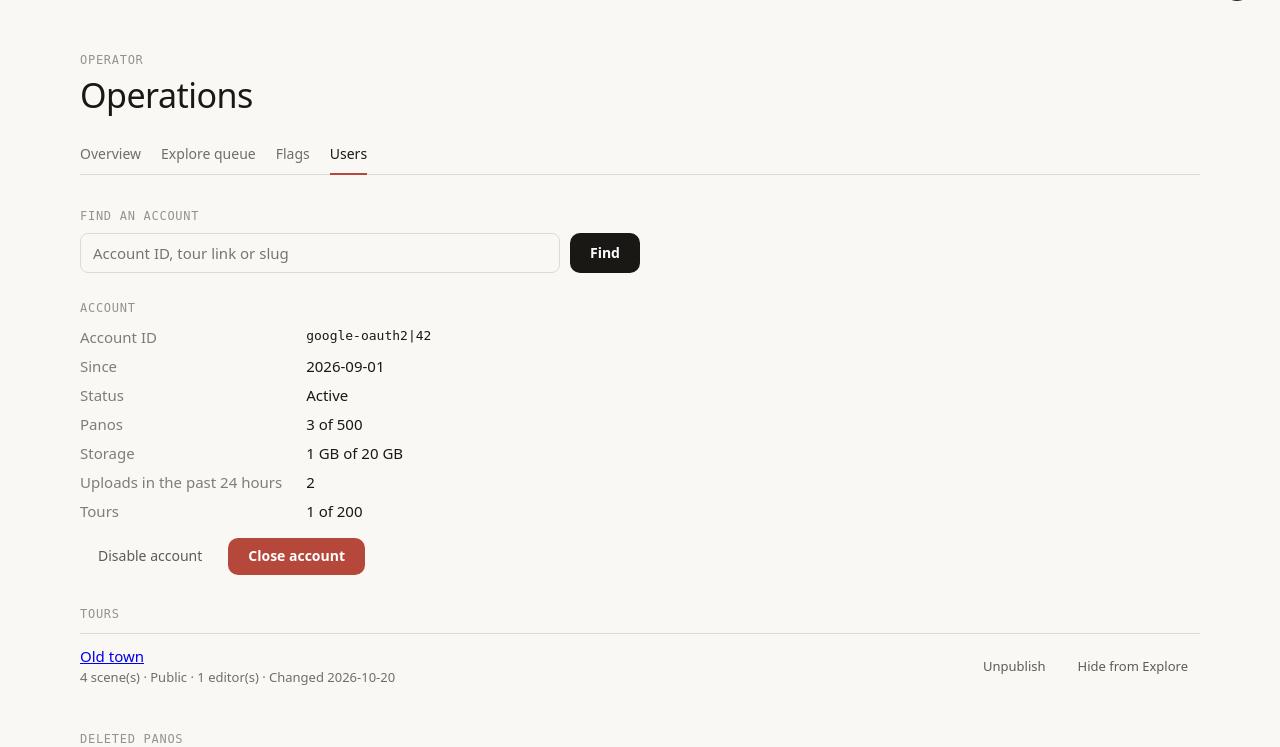
Test case: /app/ops/users › unpublishes after a confirm, hides at once, and restores from the trash
Click the button "Unpublish": (1014,667) [971,652,1058,682]
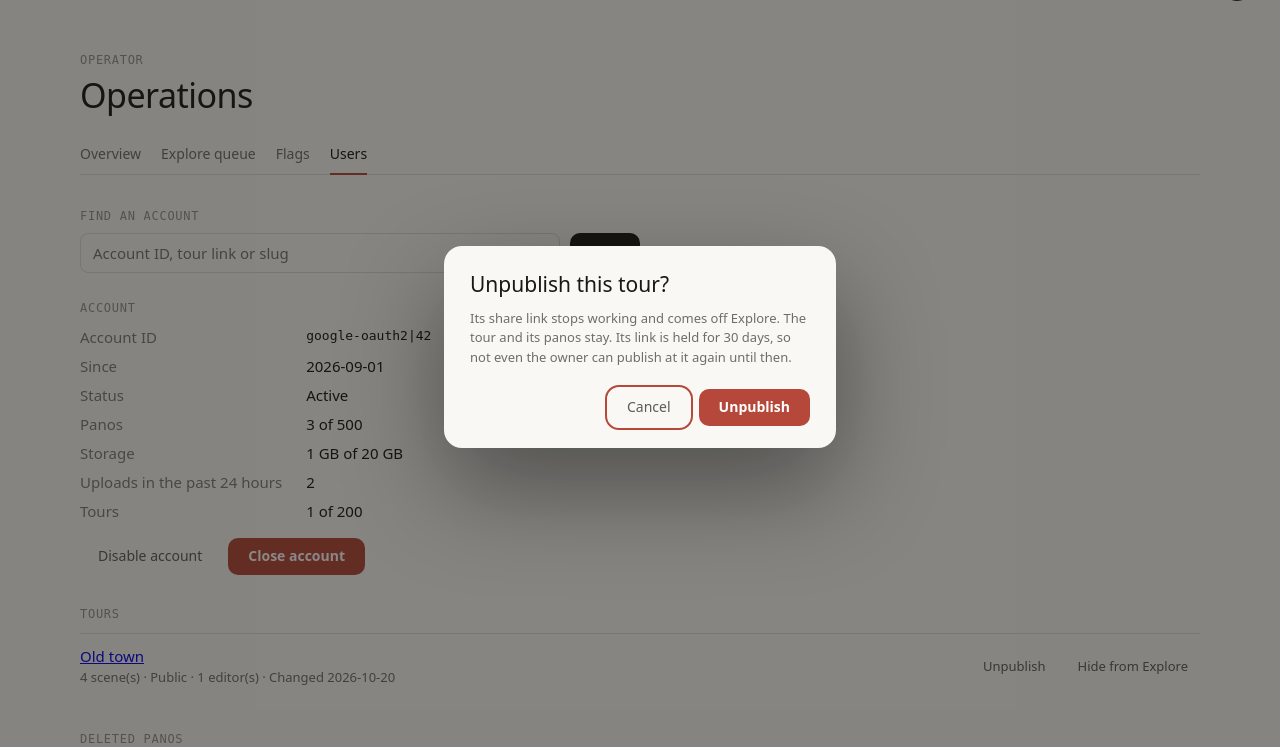
Click the button "Unpublish": (754,408) [699,389,810,426]
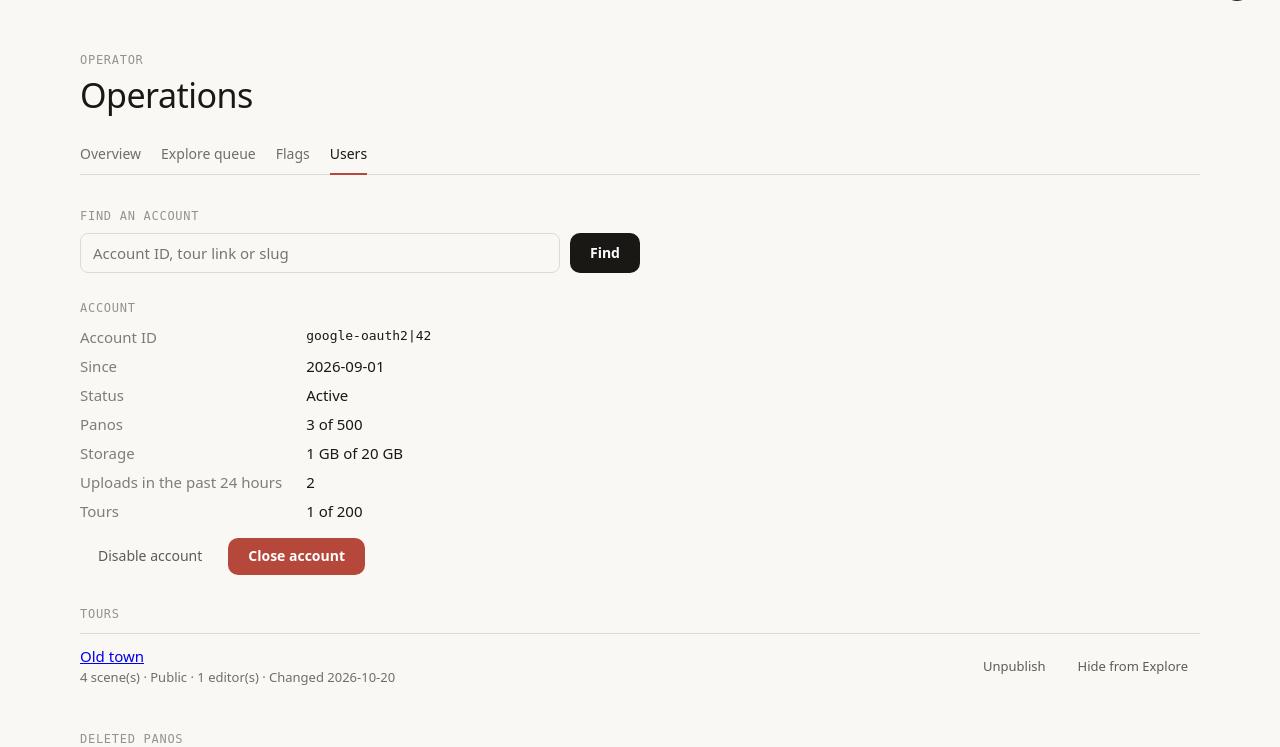
Click the button "Hide from Explore": (1133,667) [1066,652,1200,682]
(page scrolled)
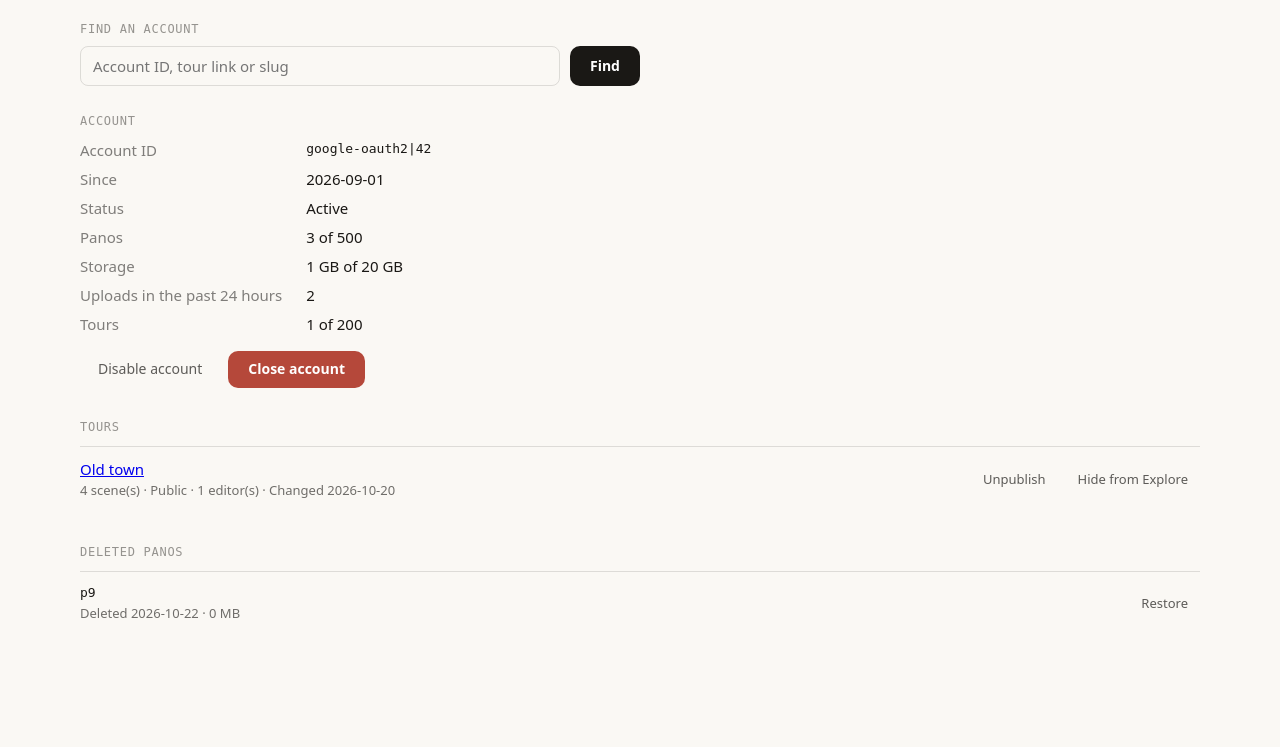
Click the button "Restore": (1165,604) [1129,589,1200,618]
(page scrolled)
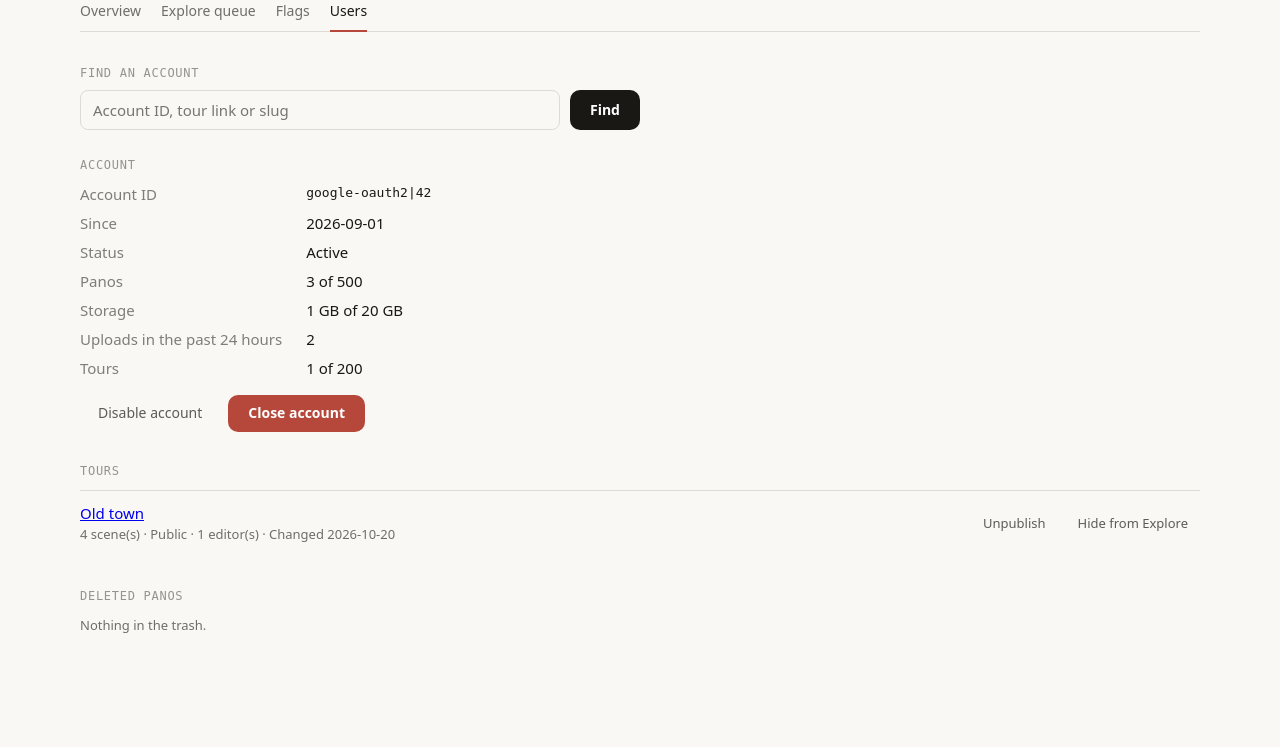
Now the text "Nothing in the trash." is shown, box [80,616,206,634]
